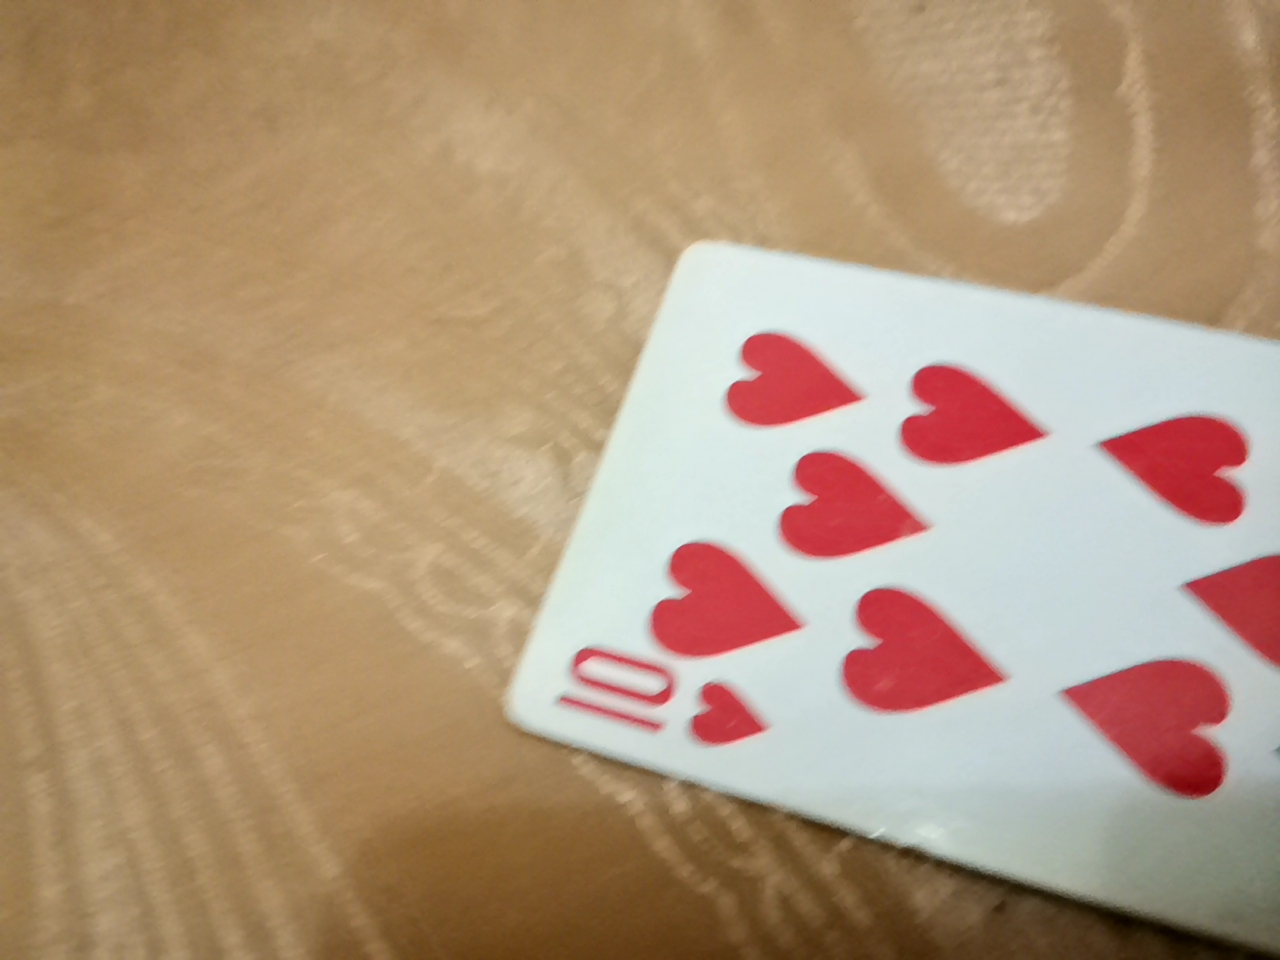hx 10: (535, 235, 1280, 928)
